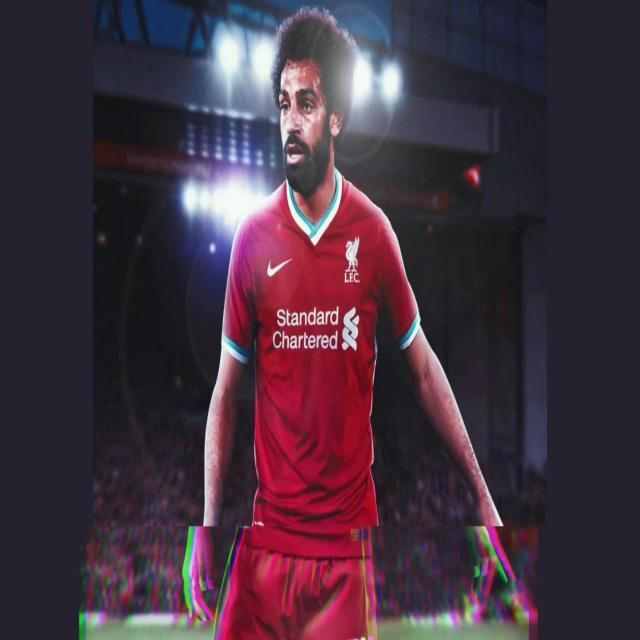Nike: (265, 256, 290, 278)
Standard Chartered: (270, 302, 358, 354)
